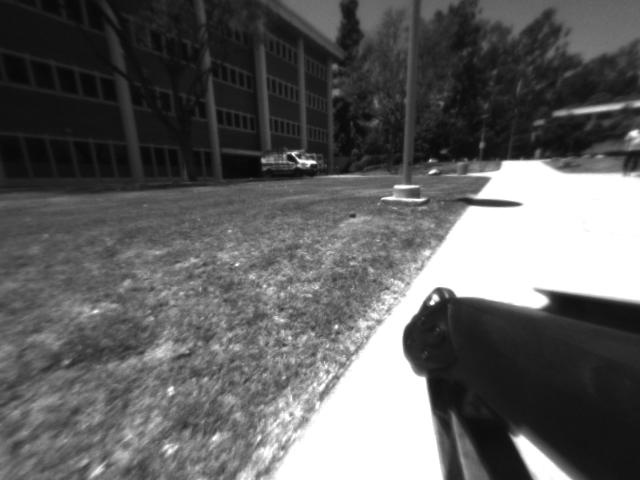dogtoy: (344, 206, 361, 222)
